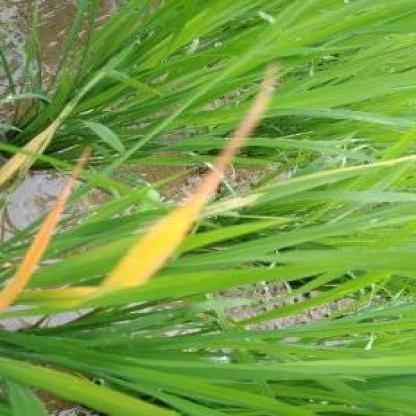Tungro: (26, 67, 270, 310), (1, 158, 80, 310)
